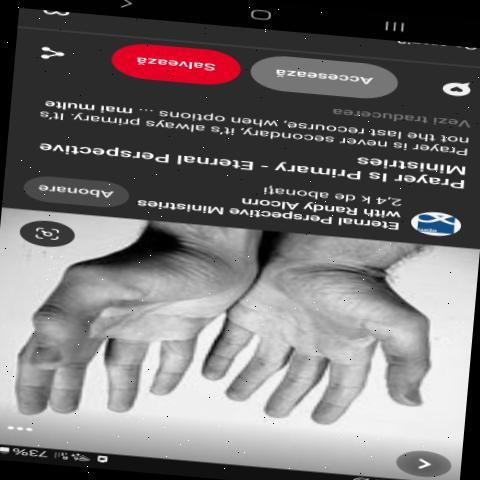Hands: (200, 233, 444, 460), (3, 197, 197, 442)
